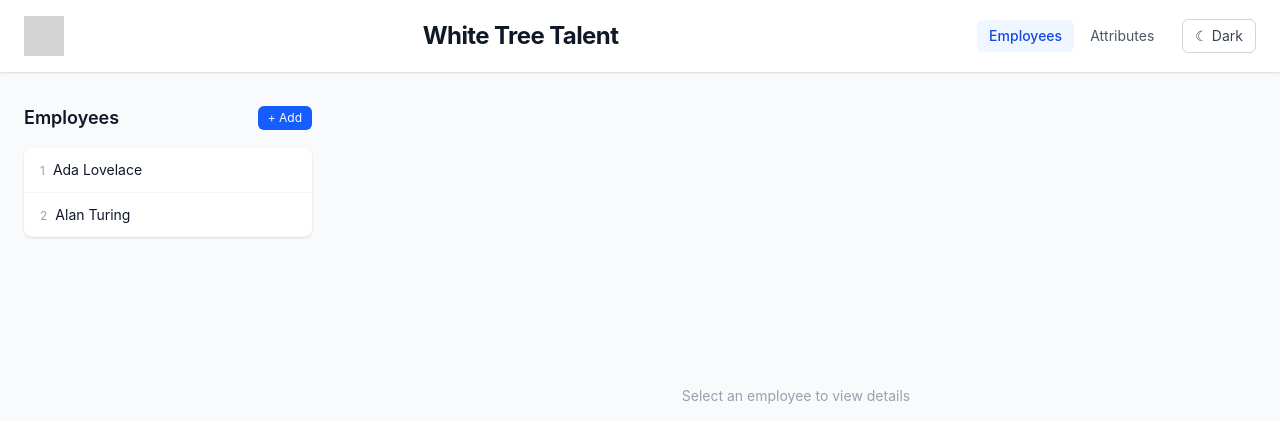
Test: App › shows detail error when snapshot fetch fails
Step 1. Click the button "1Ada Lovelace" → x=113, y=170, box [24,148,312,192]
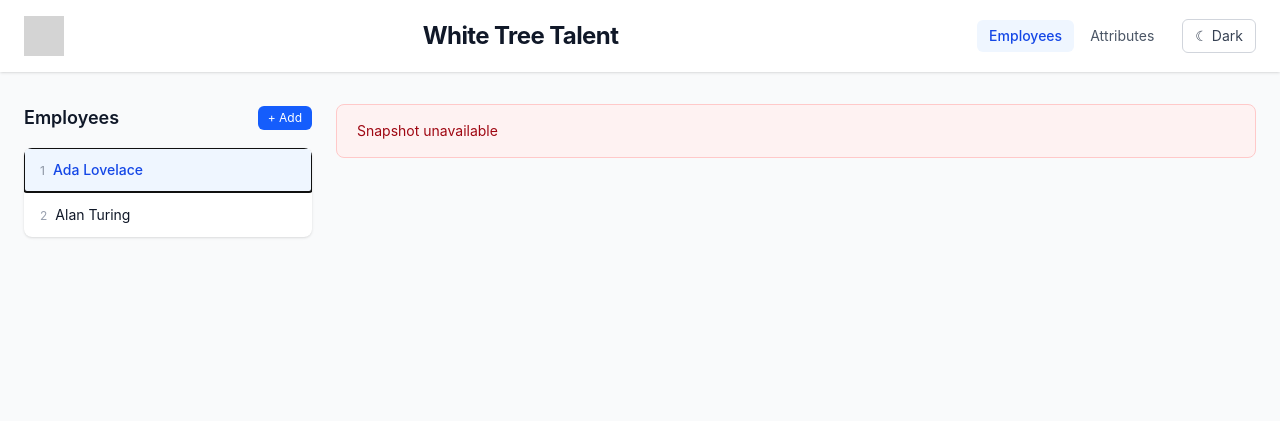
Check: the text "Snapshot unavailable" is shown, box [336,104,1256,158]
